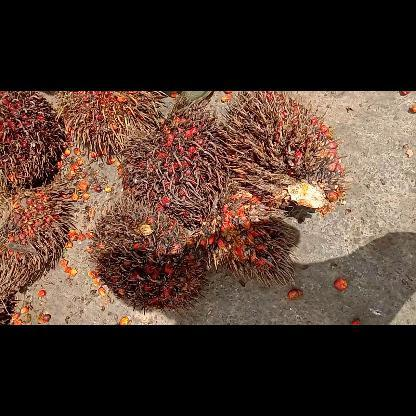Terlalu masak: (110, 96, 244, 234), (220, 91, 352, 219), (88, 196, 212, 316), (192, 181, 306, 291)
